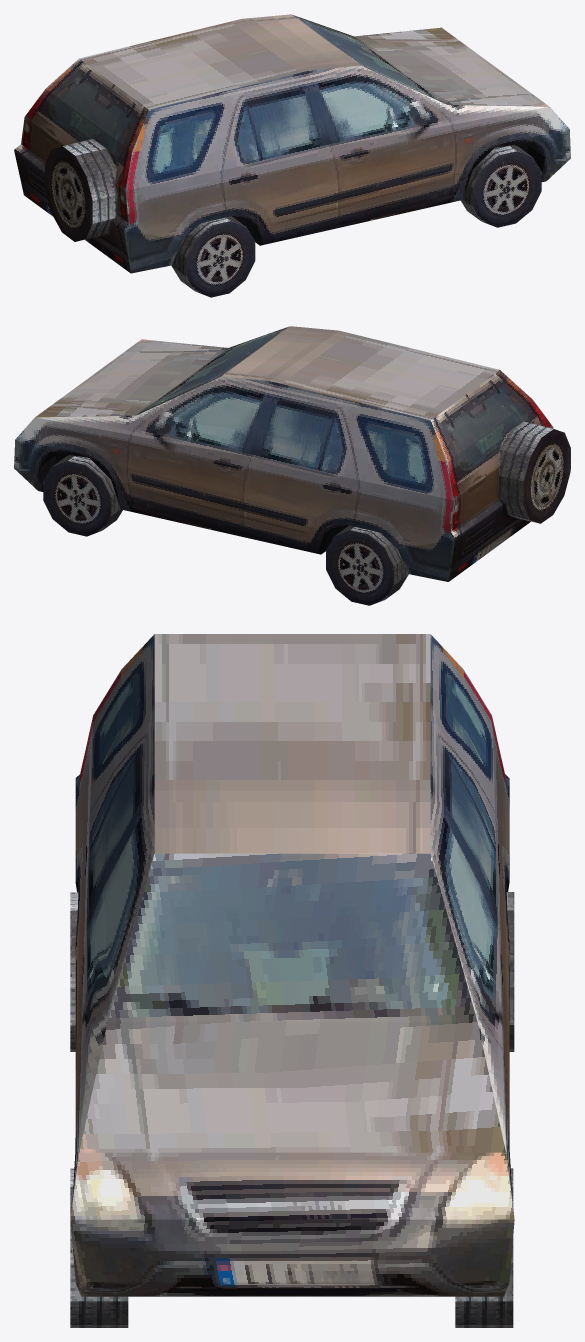
Rendered from HondyCarVe.glb.
The picture shows the model from 3 angles, top to bottom: view 1: azimuth 30°, elevation 25°; view 2: azimuth 150°, elevation 25°; view 3: azimuth 270°, elevation 25°; orthographic projection. The views are drawn at different scales.
Parts seen in each view (by area): view 1: BusssHjul; view 2: BusssHjul; view 3: BusssHjul.
Boxes of the visible parts, x1,y1,x2,y2 form: BusssHjul: [14, 14, 570, 297]; BusssHjul: [14, 326, 570, 605]; BusssHjul: [70, 634, 514, 1327].
Bounding box in the file's own units: 12.74 × 4.77 × 5.32.
1 material, 1 textured.
